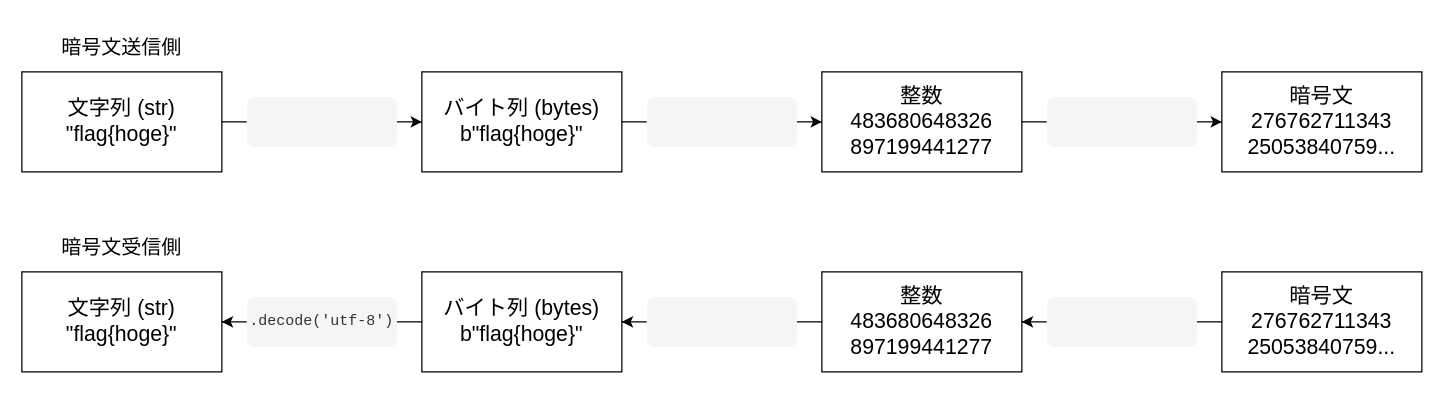
Image size: 1444x394. Some labels were removed from this diagram. The shapes that lost their labels are listed below. From the top down, each one's centre as x and y in pixels, then its label:
the point at 321,121: .encode('utf-8')
the point at 721,121: bytes_to_long()
the point at 1121,121: 暗号化
the point at 721,321: long_to_bytes()
the point at 1121,321: 復号
